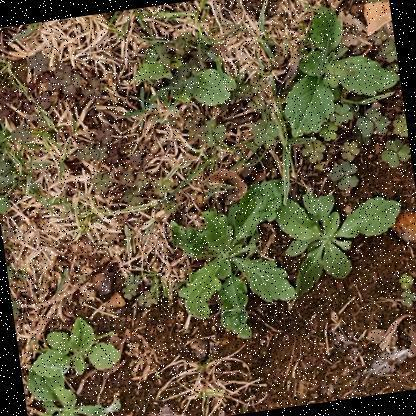Weeds: (161, 167, 306, 349), (269, 170, 410, 303), (271, 1, 401, 141), (131, 41, 239, 117), (21, 313, 121, 384), (21, 359, 111, 415)
